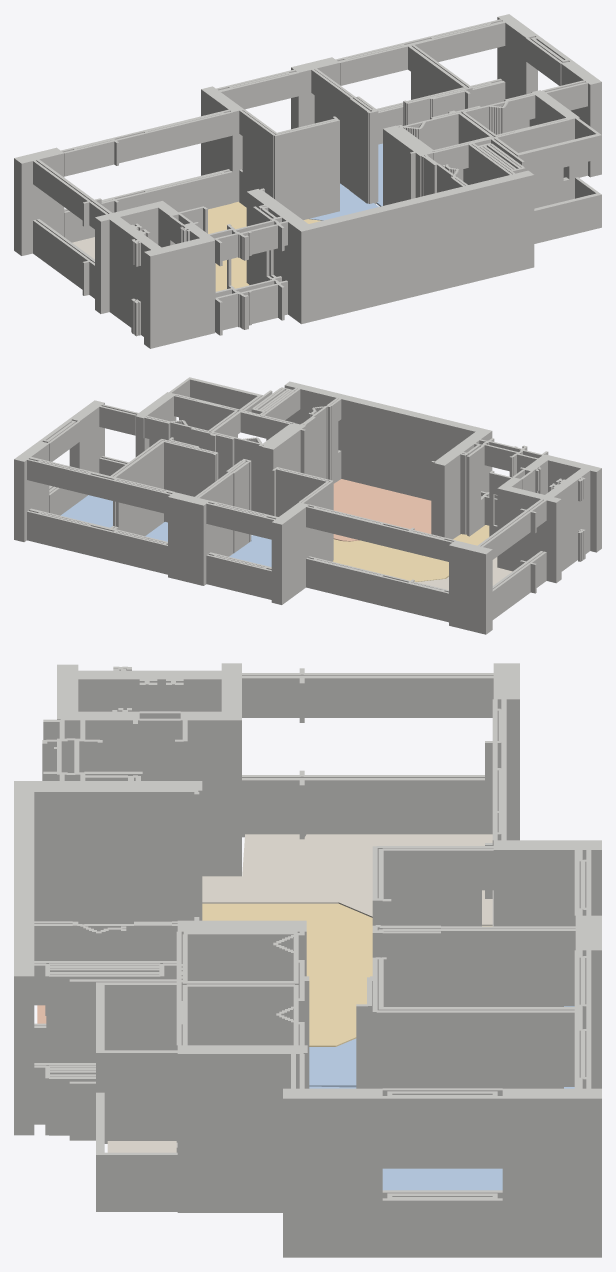
3 views of the same model, one above another, from view 1: azimuth 30°, elevation 25°; view 2: azimuth 150°, elevation 25°; view 3: azimuth 270°, elevation 25° (orthographic). The views are drawn at different scales.
Parts seen in each view (by area): view 1: walls, room:living:1, room:bedroom:2; view 2: walls, room:kitchen:6, room:living:1, room:bedroom:4, room:bedroom:2, room:other:0; view 3: walls, room:other:0, room:living:1, room:bedroom:4, room:bedroom:2, room:other:10.
Part boxes in pixels (x1,y1,x2,y2): walls: (14, 14, 601, 348); room:living:1: (208, 201, 321, 291); room:bedroom:2: (310, 183, 378, 220); walls: (14, 377, 601, 634); room:kitchen:6: (333, 479, 431, 541); room:living:1: (333, 525, 489, 581); room:bedroom:4: (61, 495, 112, 527); room:bedroom:2: (229, 535, 271, 566); room:other:0: (416, 557, 512, 589); walls: (14, 663, 601, 1257); room:other:0: (202, 834, 492, 925); room:living:1: (202, 903, 492, 1046); room:bedroom:4: (382, 1168, 502, 1190); room:bedroom:2: (309, 1006, 574, 1087); room:other:10: (107, 1141, 176, 1152).
Bounding box in the file's own units: 16.43 × 2.8 × 9.38.
